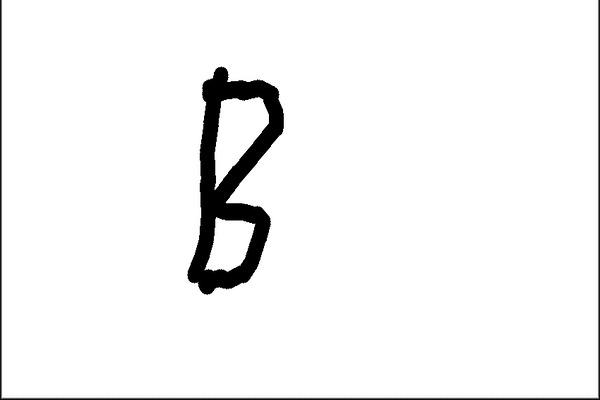B: (176, 60, 296, 301)
